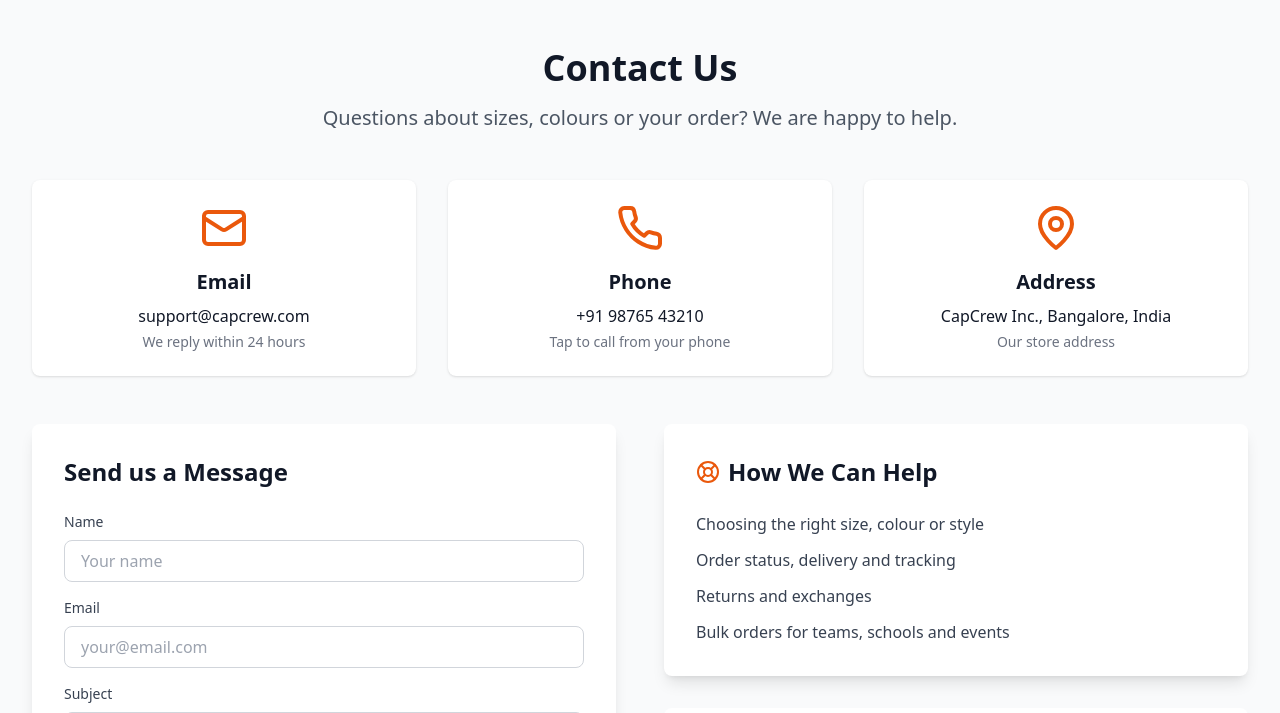
Test: ContactPage › shows an error (and keeps what was typed) when sending fails
Type "Asha" into the field labelled "Name" at (324, 561), box x1=64 y1=540 x2=584 y2=582
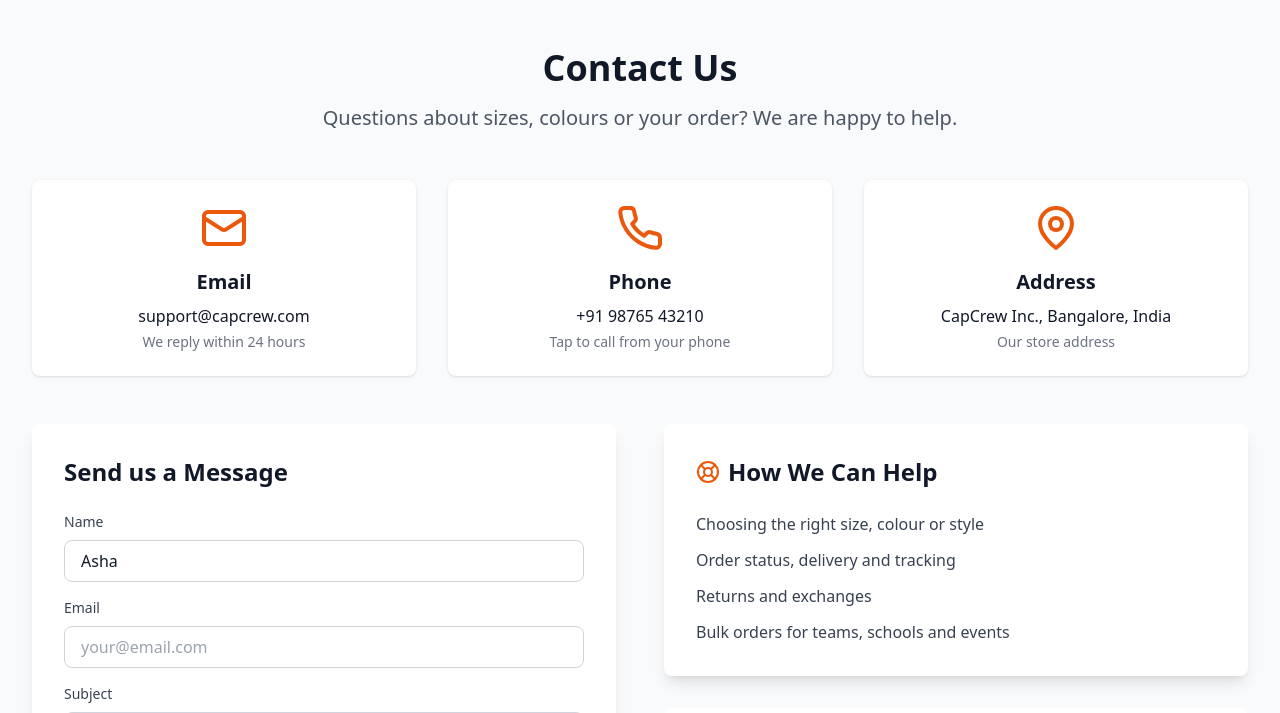
Type "asha@example.com" into the field labelled "Email" at (324, 647), box x1=64 y1=626 x2=584 y2=668
(page scrolled)
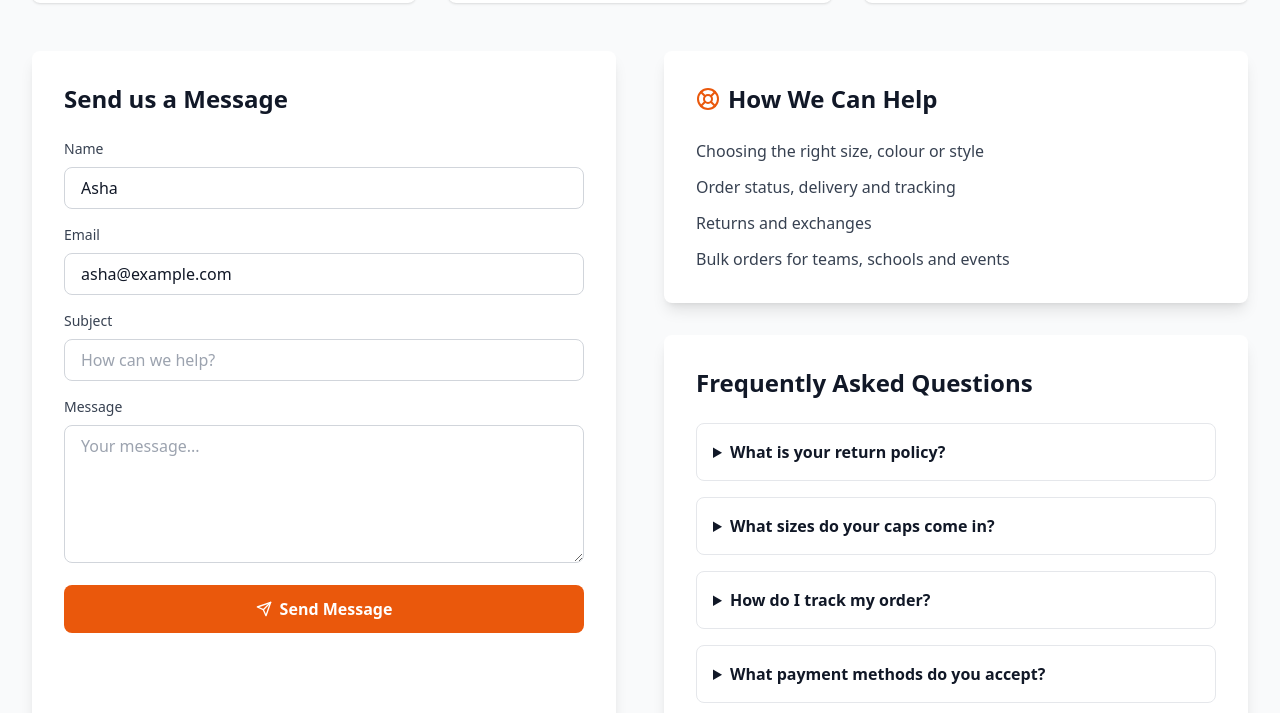
Type "Size help" into the field labelled "Subject" at (324, 360), box x1=64 y1=339 x2=584 y2=381
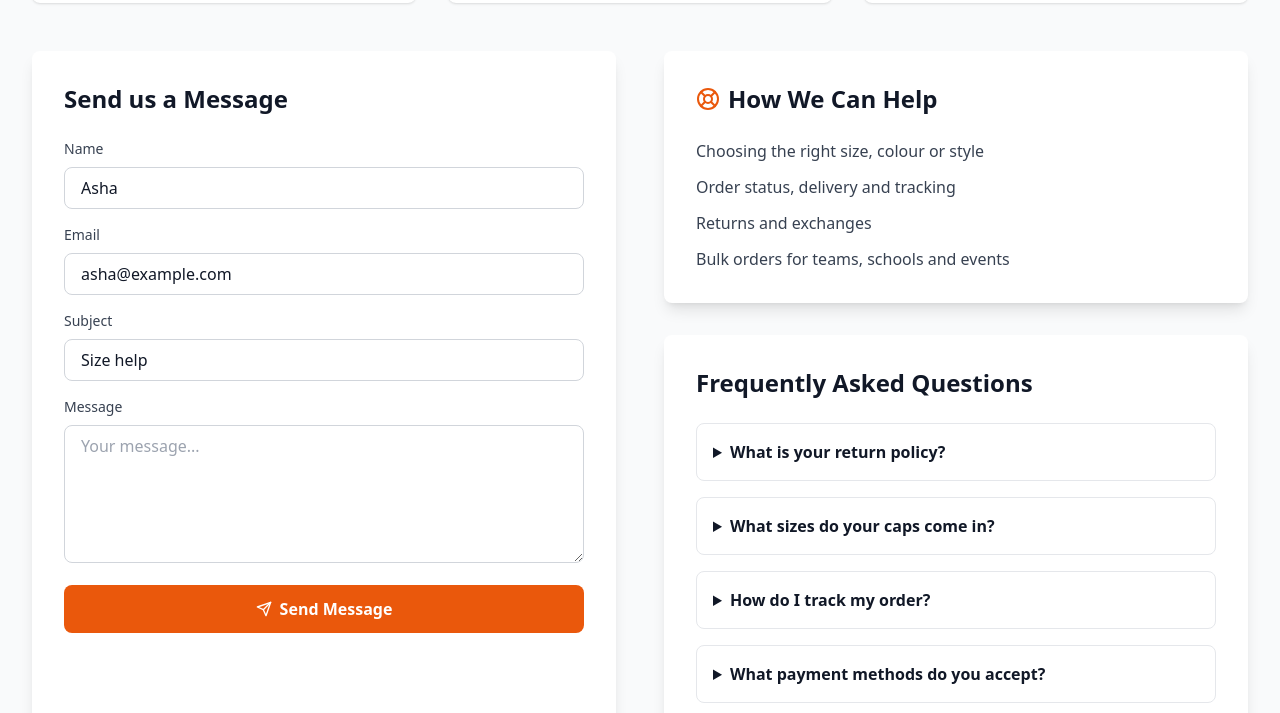
Type "Which size fits a 56 cm head?" into the text box labelled "Message" at (324, 494), box x1=64 y1=425 x2=584 y2=563
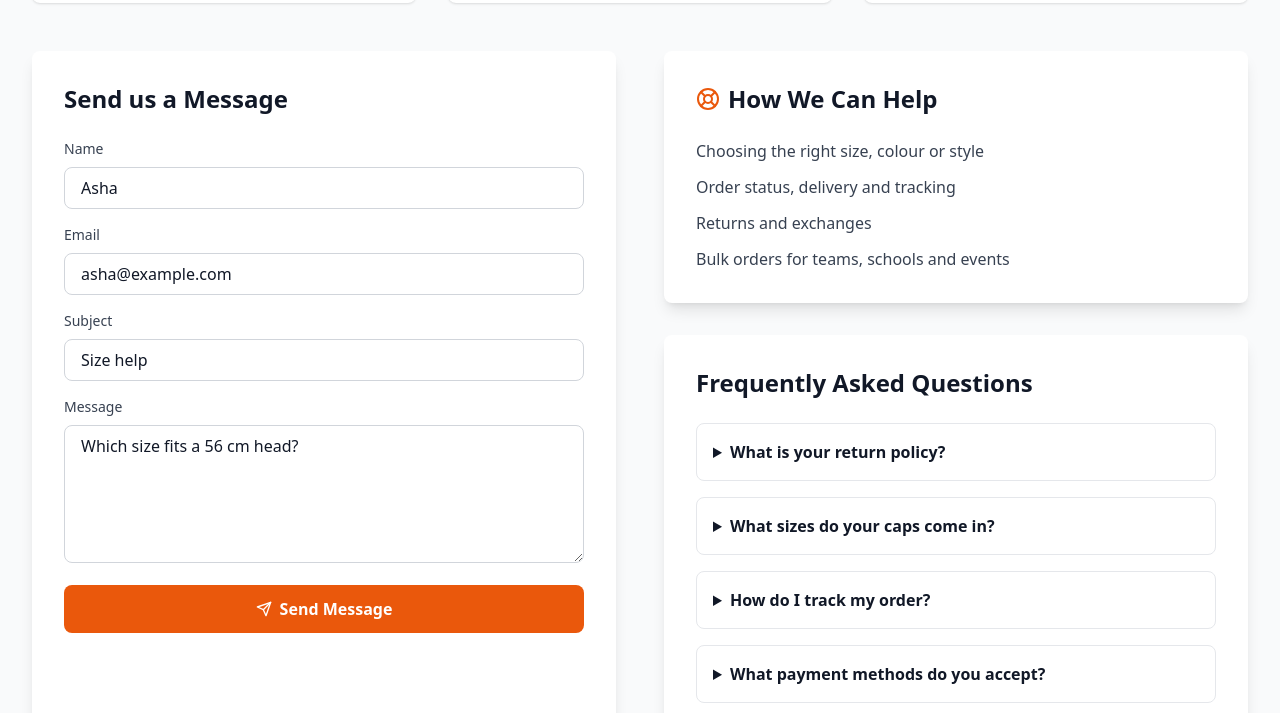
Click the button "Send Message" at (324, 609), box x1=64 y1=585 x2=584 y2=633
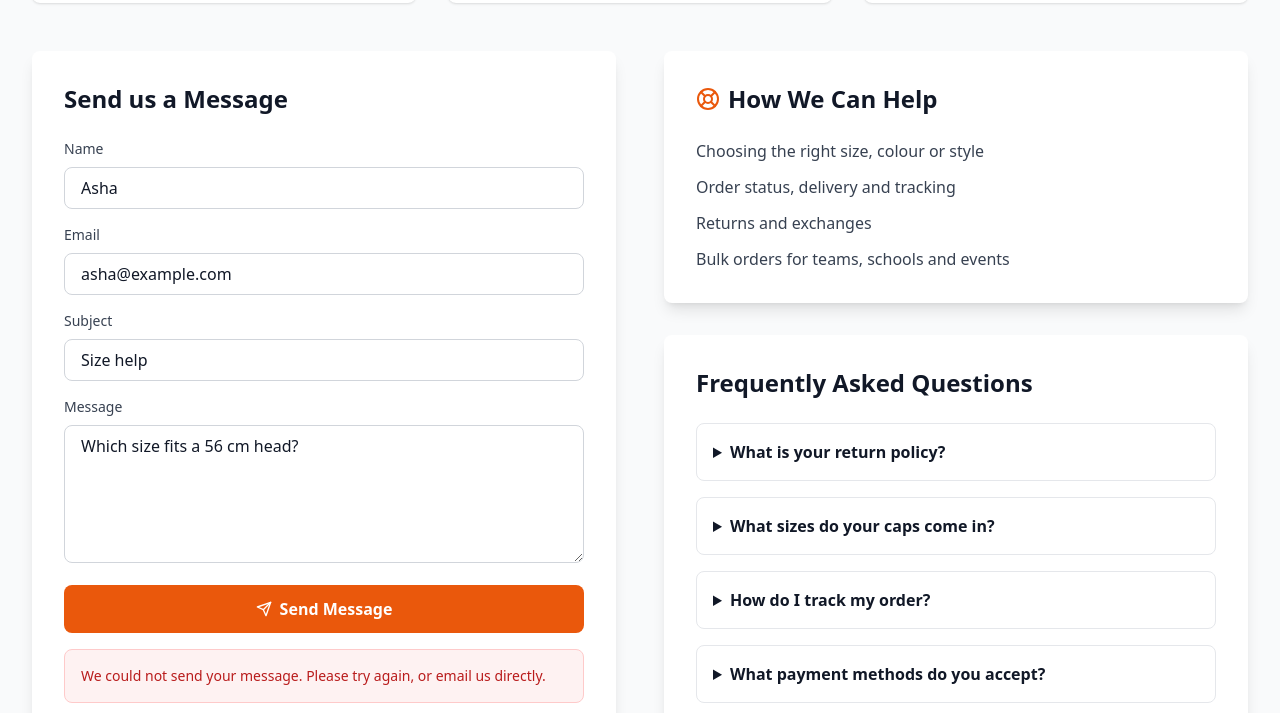
Result: the message shows "could not send" at x1=81 y1=666 x2=546 y2=685
